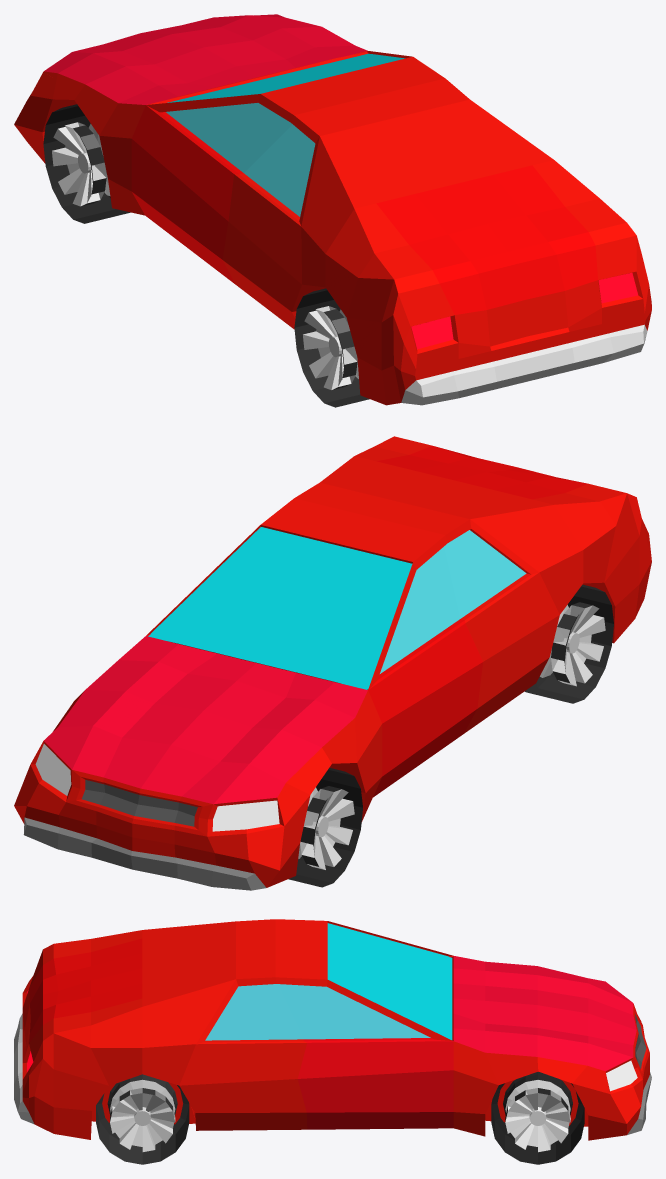
The model's file is RED_LOW_POLY_JUST_BODY.fbx.
The picture shows the model from 3 angles, top to bottom: view 1: azimuth 30°, elevation 25°; view 2: azimuth 150°, elevation 25°; view 3: azimuth 270°, elevation 25°; orthographic projection. The views are drawn at different scales.
Visible parts, largest first — view 1: Car, BagageDoor, Hood, LeftDoor, SideWindowL, BackBumper, WheelTireFL, WheelTireBL., WheelRimFL, WheelRimFL.001, FrontWindow, BackLights; view 2: Car, Hood, FrontWindow, LeftDoor, SideWindowL, FrontBumper, BagageDoor, WheelTireBL., WheelTireFL, WheelRimFL.001, WheelRimFL, HeadLights; view 3: Car, Hood, RightDoor, FrontWindow, SideWindowR, BagageDoor, WheelRimFL.002, WheelRimFL.003, WheelTireFR, WheelTireBR, BackBumper, HeadLights (+1 smaller).
Part boxes in pixels (x1=…): Car: x1=14, y1=51, x2=651, y2=405; BagageDoor: x1=376, y1=165, x2=597, y2=314; Hood: x1=44, y1=14, x2=367, y2=104; LeftDoor: x1=131, y1=105, x2=243, y2=284; SideWindowL: x1=166, y1=103, x2=315, y2=216; BackBumper: x1=401, y1=324, x2=647, y2=405; WheelTireFL: x1=43, y1=104, x2=130, y2=223; WheelTireBL.: x1=294, y1=288, x2=369, y2=407; WheelRimFL: x1=52, y1=122, x2=110, y2=206; WheelRimFL.001: x1=303, y1=306, x2=358, y2=390; FrontWindow: x1=167, y1=53, x2=405, y2=102; BackLights: x1=411, y1=272, x2=637, y2=349; Car: x1=14, y1=436, x2=651, y2=887; Hood: x1=43, y1=636, x2=367, y2=804; FrontWindow: x1=148, y1=527, x2=412, y2=689; LeftDoor: x1=367, y1=619, x2=482, y2=797; SideWindowL: x1=380, y1=530, x2=526, y2=673; FrontBumper: x1=23, y1=817, x2=266, y2=890; BagageDoor: x1=377, y1=445, x2=588, y2=499; WheelTireBL.: x1=524, y1=584, x2=613, y2=703; WheelTireFL: x1=288, y1=768, x2=362, y2=887; WheelRimFL.001: x1=540, y1=605, x2=605, y2=686; WheelRimFL: x1=298, y1=787, x2=354, y2=869; HeadLights: x1=35, y1=744, x2=279, y2=831; Car: x1=22, y1=919, x2=649, y2=1140; Hood: x1=453, y1=956, x2=636, y2=1071; RightDoor: x1=298, y1=1038, x2=453, y2=1129; FrontWindow: x1=327, y1=923, x2=452, y2=1039; SideWindowR: x1=205, y1=984, x2=430, y2=1040; BagageDoor: x1=29, y1=938, x2=142, y2=1043; WheelRimFL.002: x1=505, y1=1080, x2=570, y2=1152; WheelRimFL.003: x1=110, y1=1079, x2=175, y2=1151; WheelTireFR: x1=491, y1=1072, x2=584, y2=1164; WheelTireBR: x1=96, y1=1074, x2=189, y2=1164; BackBumper: x1=14, y1=1013, x2=33, y2=1123; HeadLights: x1=606, y1=1060, x2=637, y2=1091.
Bounding box in the file's own units: 401 × 306 × 1054.
